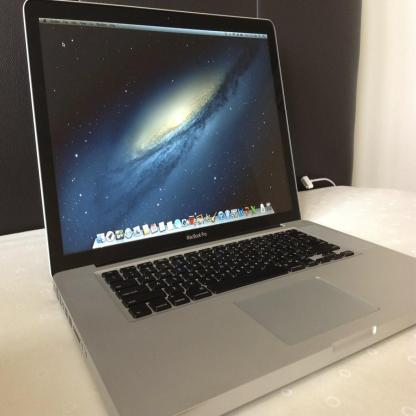board: (24, 9, 403, 402)
